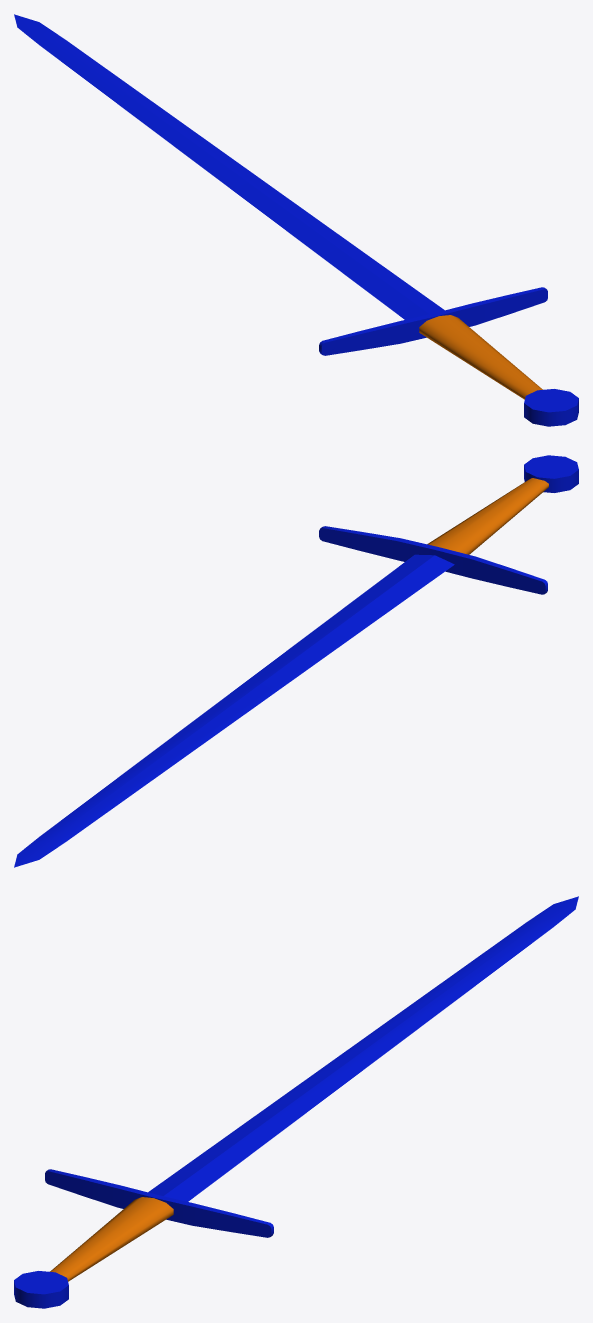
File: Troop_Sword.fbx
3 views of the same model, one above another, from view 1: azimuth 30°, elevation 25°; view 2: azimuth 150°, elevation 25°; view 3: azimuth 330°, elevation 25° (orthographic).
Parts seen in each view (by area): view 1: Cube; view 2: Cube; view 3: Cube.
Boxes of the visible parts, left/top/right/bottom form: Cube: left=14, top=14, right=578, bottom=426; Cube: left=14, top=455, right=578, bottom=867; Cube: left=14, top=896, right=578, bottom=1308.
Bounding box in the file's own units: 171 × 13.8 × 722.
